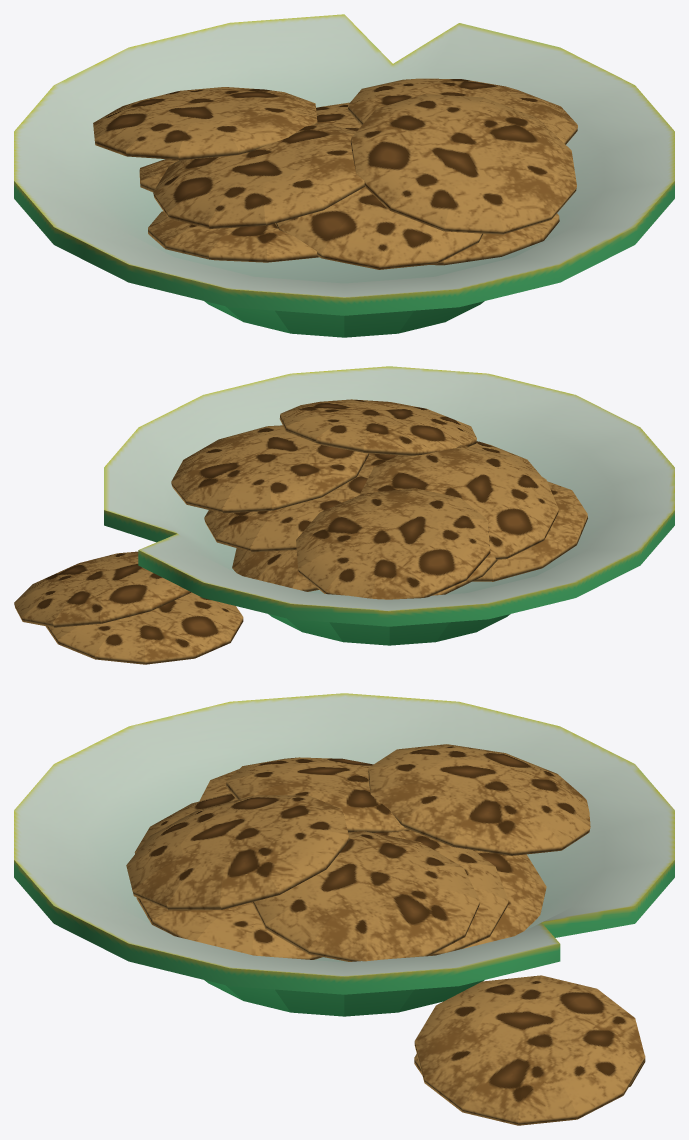
Rendered from ScaffoldPlate.fbx.
3 renders of one model, top to bottom at view 1: azimuth 30°, elevation 25°; view 2: azimuth 150°, elevation 25°; view 3: azimuth 270°, elevation 25°, orthographic. The views are drawn at different scales.
Parts seen in each view (by area): view 1: asibaplate; view 2: asibaplate; view 3: asibaplate.
Part boxes in pixels (left/top/right/bottom): asibaplate: left=14, top=14, right=674, bottom=337; asibaplate: left=14, top=366, right=674, bottom=664; asibaplate: left=14, top=693, right=674, bottom=1125.
Bounding box in the file's own units: 1.06 × 0.299 × 0.9836.
Materials: 1 (1 with a texture image).
